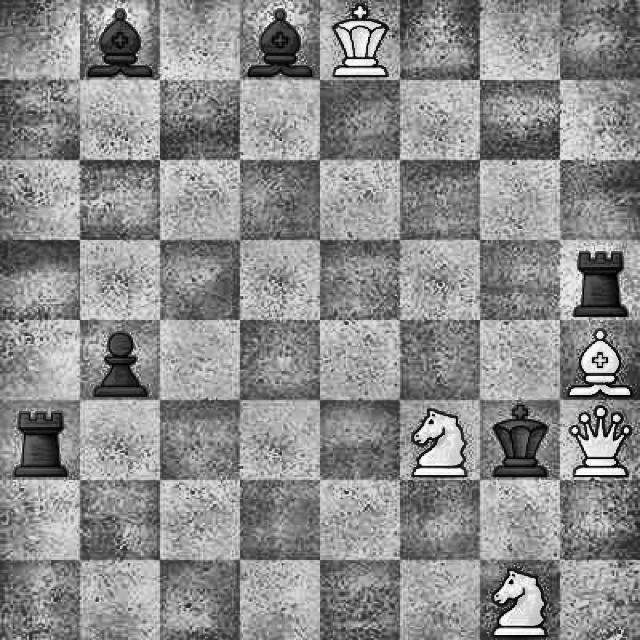black bishop: (242, 4, 318, 78), (84, 1, 156, 78)
black king: (491, 403, 550, 478)
black pawn: (88, 332, 153, 399)
black rook: (564, 241, 638, 320), (5, 409, 74, 478)
white bishop: (562, 325, 640, 398)
white king: (326, 1, 391, 79)
white queen: (562, 400, 640, 478)
whiteknight: (488, 564, 554, 640), (408, 405, 472, 476)
